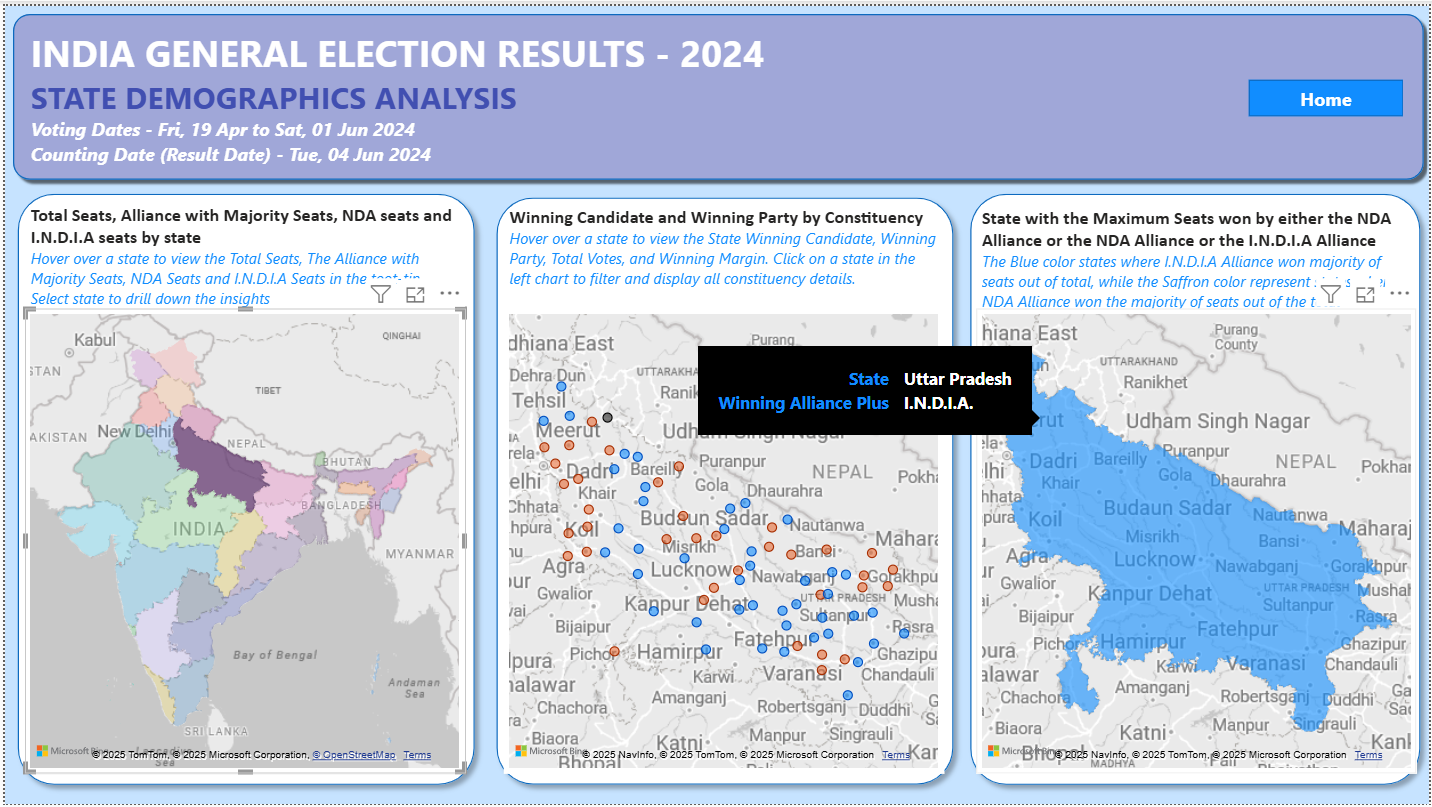

The dashboard page shown, as its layout file describes it:
{"tool":"powerbi","page":{"name":"STATE DEMOGRAPHICS ANALYSIS","canvas":[1250,700],"ordinal":2},"visuals":[{"type":"shape","box":[0,0,1250.7,159.3],"z":0},{"type":"textbox","box":[17.8,14.3,700.2,145],"z":1000},{"type":"shape","box":[2.4,155.7,418.5,536.2],"z":2000},{"type":"shape","box":[422,159.3,418.5,532.6],"z":3000},{"type":"shape","box":[837,155.7,412.5,536.2],"z":4000},{"type":"textbox","box":[17.8,168.8,386.4,120.1],"z":5000},{"type":"filledMap","fields":{"Category":["states.State"],"Series":["states.State"]},"box":[17.8,265.1,386.4,407.8],"z":6000},{"type":"textbox","box":[437.5,170,386.4,120.1],"z":7000},{"type":"map","fields":{"Category":["states.State","constituencywise_results.Constituency Name"],"Series":["constituencywise_results.Party Alliance"]},"box":[437.5,265.1,386.4,407.8],"z":8000},{"type":"textbox","box":[851.2,171.2,386.4,120.1],"z":9000},{"type":"filledMap","fields":{"Category":["states.State"],"Series":["states.Winning Alliance Plus"]},"box":[851.2,265.1,386.4,407.8],"z":10000},{"type":"shape","box":[1090.2,64.2,135.5,32.1],"z":11000}]}

Visuals, with their boxes in screenshot pixels (x1, y1, x2, y2), scaled from the page's 1250x700 canvas onto the 1432x807 screenshot:
shape: <region>0, 0, 1431, 184</region>
textbox: <region>20, 16, 823, 184</region>
shape: <region>3, 179, 482, 798</region>
shape: <region>483, 184, 963, 798</region>
shape: <region>959, 179, 1431, 798</region>
textbox: <region>20, 195, 463, 333</region>
filledMap - states.State x states.State: <region>20, 306, 463, 776</region>
textbox: <region>501, 196, 944, 334</region>
map - states.State x constituencywise_results.Constituency Name: <region>501, 306, 944, 776</region>
textbox: <region>975, 197, 1418, 336</region>
filledMap - states.State x states.Winning Alliance Plus: <region>975, 306, 1418, 776</region>
shape: <region>1249, 74, 1404, 111</region>
